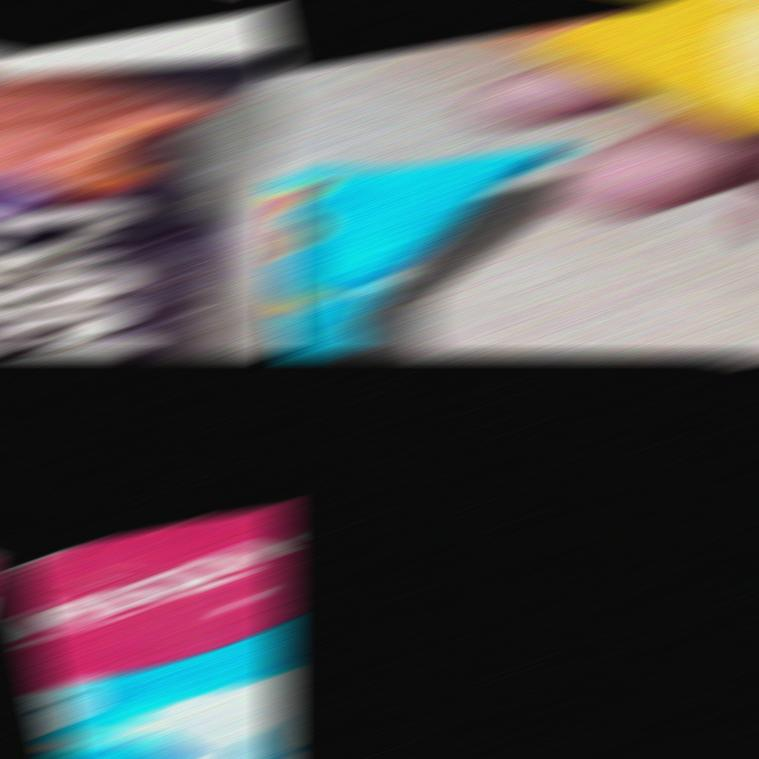choco mucho: (0, 3, 288, 353)
colgate: (10, 508, 288, 756)
